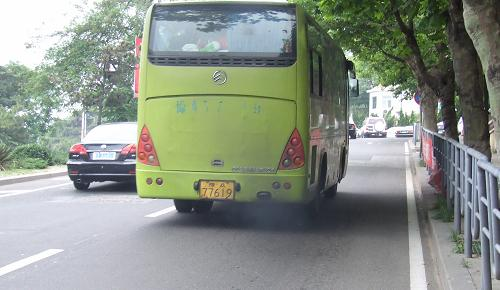smoke: (226, 203, 327, 247)
